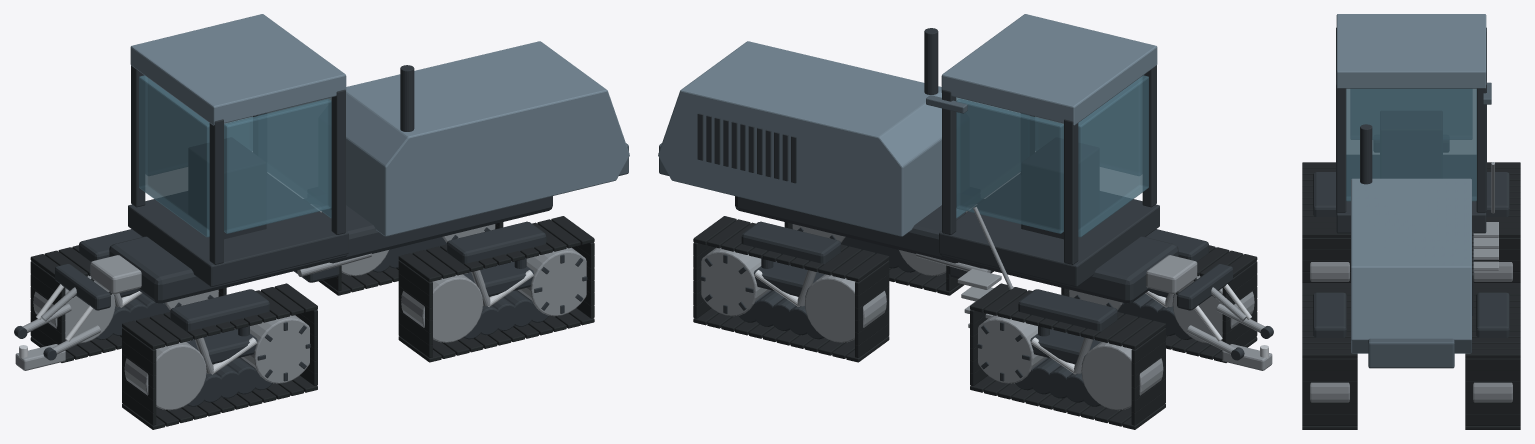
The model's file is case-ih-steiger-715-quadtrac-structural-study.glb.
3 renders of one model, left to right at view 1: azimuth 30°, elevation 25°; view 2: azimuth 150°, elevation 25°; view 3: azimuth 270°, elevation 25°, orthographic. The views are drawn at different scales.
Visible parts, largest first — view 1: Steiger_715_Engine_Hood, Cab_Roof, Cab_R_Glass, Cab_Floor, Cab_Rear_Glass, Operator_Seat, Rear_Main_Frame, Front_Main_Frame, Track_RR_Idler, Track_FR_Idler, Track_FR_Drive_Wheel, Track_RR_Drive_Wheel (+17 smaller); view 2: Steiger_715_Engine_Hood, Cab_Roof, Cab_L_Glass, Cab_Floor, Cab_Rear_Glass, Operator_Seat, Rear_Main_Frame, Front_Main_Frame, Track_RL_Idler, Track_FL_Idler, Track_FL_Drive_Wheel, Track_RL_Drive_Wheel (+17 smaller); view 3: Steiger_715_Engine_Hood, Cab_Front_Glass, Cab_Roof, Operator_Seat, Front_Nose_End_Plate, Cab_Floor, HDS_FL_Upper_Carrier, HDS_FR_Upper_Carrier, Cab_R_Post_F, Cab_L_Post_F, HDS_RR_Upper_Carrier, HDS_RL_Upper_Carrier (+39 smaller).
Boxes of the visible parts, left/top/right/bottom form: Steiger_715_Engine_Hood: left=346, top=41, right=629, bottom=236; Cab_Roof: left=130, top=14, right=346, bottom=125; Cab_R_Glass: left=224, top=99, right=331, bottom=233; Cab_Floor: left=128, top=174, right=348, bottom=286; Cab_Rear_Glass: left=139, top=75, right=209, bottom=237; Operator_Seat: left=189, top=138, right=266, bottom=239; Rear_Main_Frame: left=109, top=236, right=347, bottom=303; Front_Main_Frame: left=304, top=196, right=552, bottom=263; Track_RR_Idler: left=124, top=342, right=206, bottom=410; Track_FR_Idler: left=401, top=274, right=482, bottom=342; Track_FR_Drive_Wheel: left=518, top=247, right=586, bottom=316; Track_RR_Drive_Wheel: left=241, top=315, right=309, bottom=383; Steiger_715_Engine_Hood: left=658, top=41, right=941, bottom=236; Cab_Roof: left=941, top=14, right=1157, bottom=125; Cab_L_Glass: left=956, top=99, right=1063, bottom=233; Cab_Floor: left=939, top=174, right=1159, bottom=286; Cab_Rear_Glass: left=1078, top=75, right=1148, bottom=237; Operator_Seat: left=1021, top=138, right=1098, bottom=239; Rear_Main_Frame: left=940, top=236, right=1178, bottom=303; Front_Main_Frame: left=735, top=196, right=983, bottom=263; Track_RL_Idler: left=1081, top=342, right=1163, bottom=410; Track_FL_Idler: left=805, top=274, right=886, bottom=342; Track_FL_Drive_Wheel: left=701, top=247, right=769, bottom=316; Track_RL_Drive_Wheel: left=978, top=315, right=1046, bottom=383; Steiger_715_Engine_Hood: left=1351, top=178, right=1471, bottom=353; Cab_Front_Glass: left=1346, top=88, right=1476, bottom=201; Cab_Roof: left=1336, top=14, right=1486, bottom=88; Operator_Seat: left=1380, top=111, right=1442, bottom=177; Front_Nose_End_Plate: left=1368, top=338, right=1454, bottom=368; Cab_Floor: left=1336, top=155, right=1486, bottom=233; HDS_FL_Upper_Carrier: left=1476, top=292, right=1509, bottom=337; HDS_FR_Upper_Carrier: left=1313, top=292, right=1346, bottom=337; Cab_R_Post_F: left=1336, top=81, right=1346, bottom=212; Cab_L_Post_F: left=1476, top=81, right=1486, bottom=212; HDS_RR_Upper_Carrier: left=1313, top=172, right=1336, bottom=216; HDS_RL_Upper_Carrier: left=1486, top=172, right=1509, bottom=216.
Size of the model in its own units: 8.29 by 3.92 by 3.
